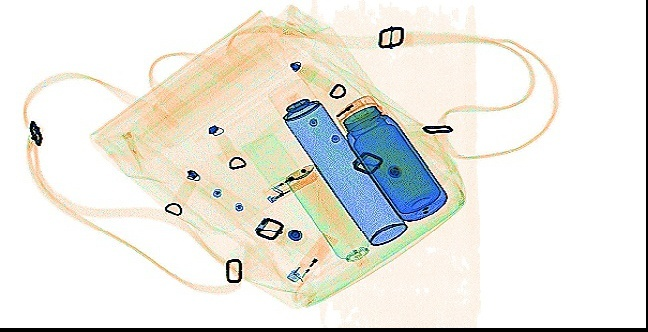lighter: (282, 228, 338, 286), (260, 162, 319, 205)
pressure: (265, 76, 406, 246), (281, 163, 376, 269)
